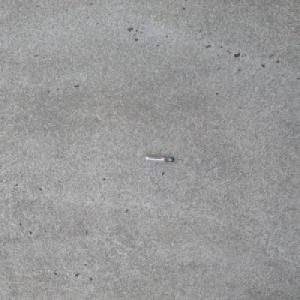Battery: (144, 156, 174, 162)
